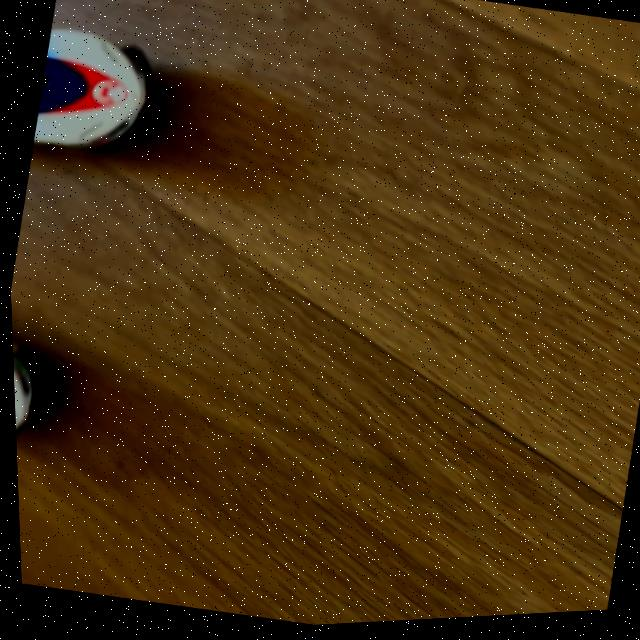mario: (25, 10, 188, 188)
yoshi: (8, 276, 82, 479)
